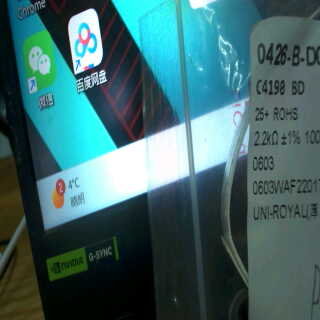2.2kR: (251, 128, 281, 146)
